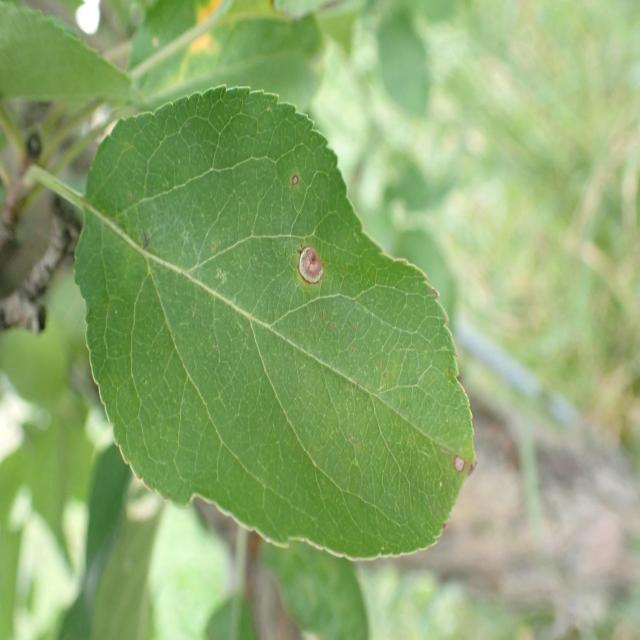Black Rot: (285, 235, 336, 329), (445, 440, 484, 491), (287, 157, 311, 195)
